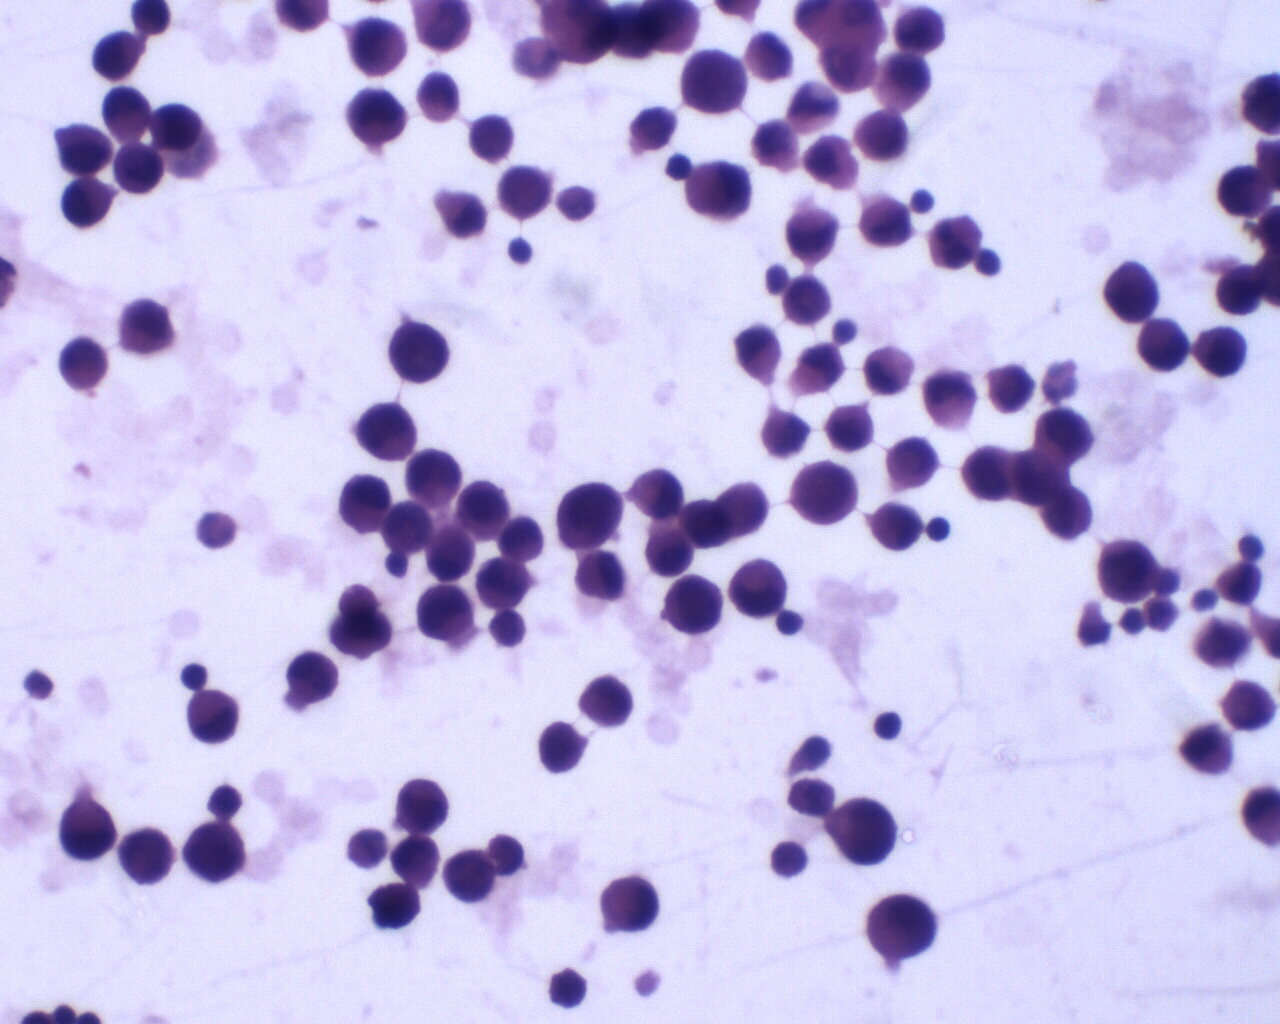ab: (860, 888, 941, 961), (828, 795, 904, 868), (682, 155, 760, 225), (556, 480, 626, 553), (679, 47, 748, 117), (790, 459, 860, 527), (385, 318, 452, 387), (1093, 537, 1160, 606), (344, 13, 409, 82), (184, 822, 250, 888), (1100, 260, 1164, 325), (664, 573, 727, 635), (59, 800, 121, 862), (347, 86, 408, 149), (357, 400, 418, 461), (851, 104, 911, 165), (415, 582, 474, 644), (885, 432, 944, 494), (957, 442, 1014, 507), (1216, 164, 1275, 224), (1010, 448, 1071, 506), (458, 478, 509, 545), (393, 776, 451, 835), (1035, 408, 1095, 465), (388, 835, 447, 891), (403, 447, 463, 504), (442, 847, 497, 908), (284, 649, 341, 707), (1193, 322, 1248, 380), (112, 140, 166, 197), (382, 498, 436, 556), (870, 497, 925, 553), (55, 123, 114, 174), (88, 29, 143, 83), (536, 720, 589, 773), (779, 273, 832, 327), (892, 4, 948, 55), (827, 401, 876, 453)
lymph: (868, 707, 906, 746), (174, 656, 214, 692), (502, 231, 537, 267)
